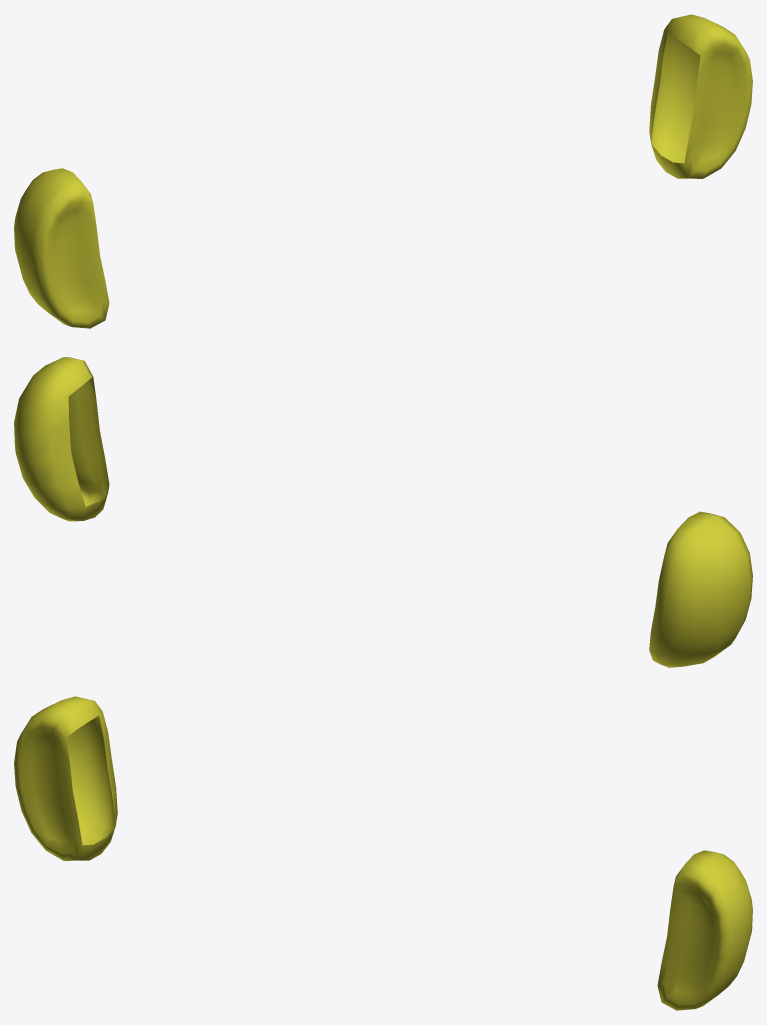
The model's file is Ears_06.glb.
3 renders of one model, top to bottom at view 1: azimuth 30°, elevation 25°; view 2: azimuth 150°, elevation 25°; view 3: azimuth 330°, elevation 25°, orthographic.
Parts seen in each view (by area): view 1: Ears_06; view 2: Ears_06; view 3: Ears_06.
Boxes of the visible parts, x1,y1,x2,y2 form: Ears_06: (14, 14, 752, 328); Ears_06: (14, 357, 752, 667); Ears_06: (14, 696, 752, 1010).
Bounding box in the file's own units: 0.6554 × 0.1295 × 0.076.
1 material, 1 textured.
